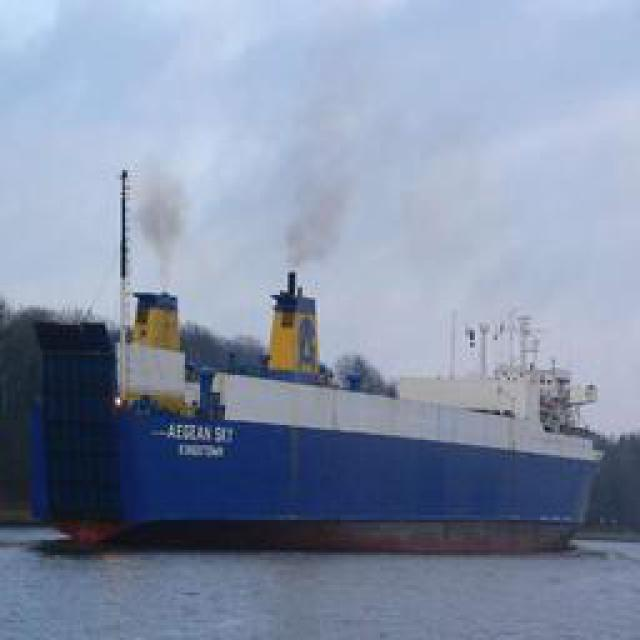Ship: (84, 291, 607, 549)
